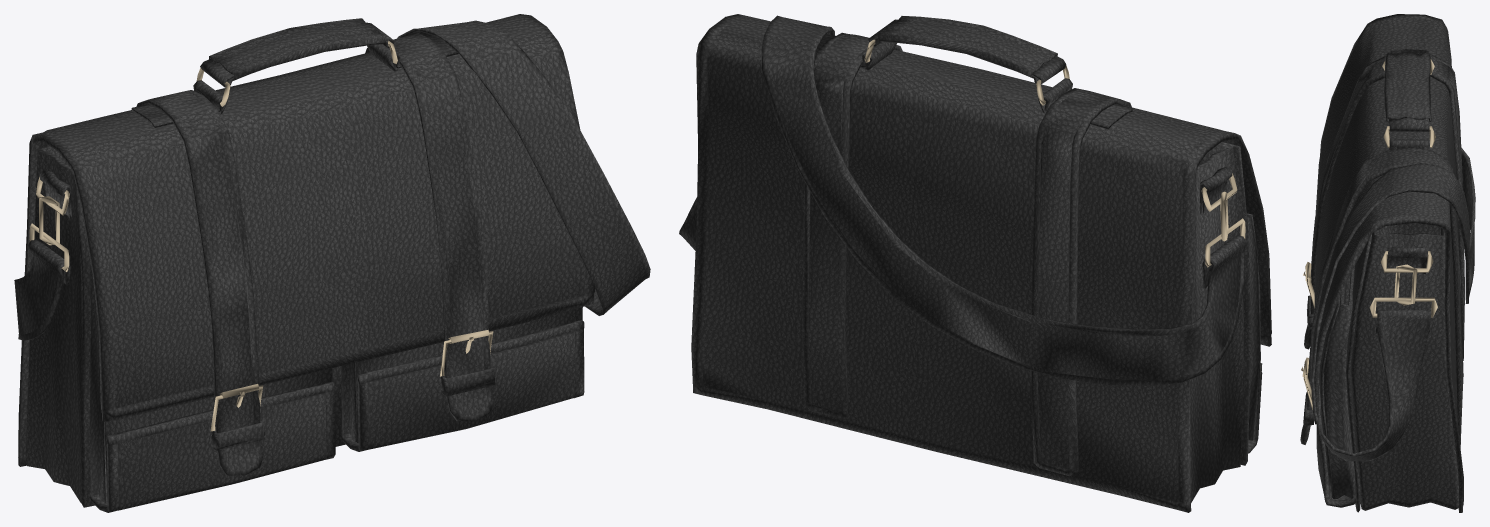
Rendered from hvbag_briefcase.glb.
The picture shows the model from 3 angles, left to right: view 1: azimuth 30°, elevation 25°; view 2: azimuth 150°, elevation 25°; view 3: azimuth 270°, elevation 25°; orthographic projection. The views are drawn at different scales.
Visible parts, largest first — view 1: BP_briefcase; view 2: BP_briefcase; view 3: BP_briefcase.
Part boxes in pixels (<box>): BP_briefcase: <box>14,14,650,512</box>; BP_briefcase: <box>679,14,1271,512</box>; BP_briefcase: <box>1300,14,1475,512</box>.
Bounding box in the file's own units: 0.3621 × 0.2363 × 0.1118.
2 materials, 1 textured.
